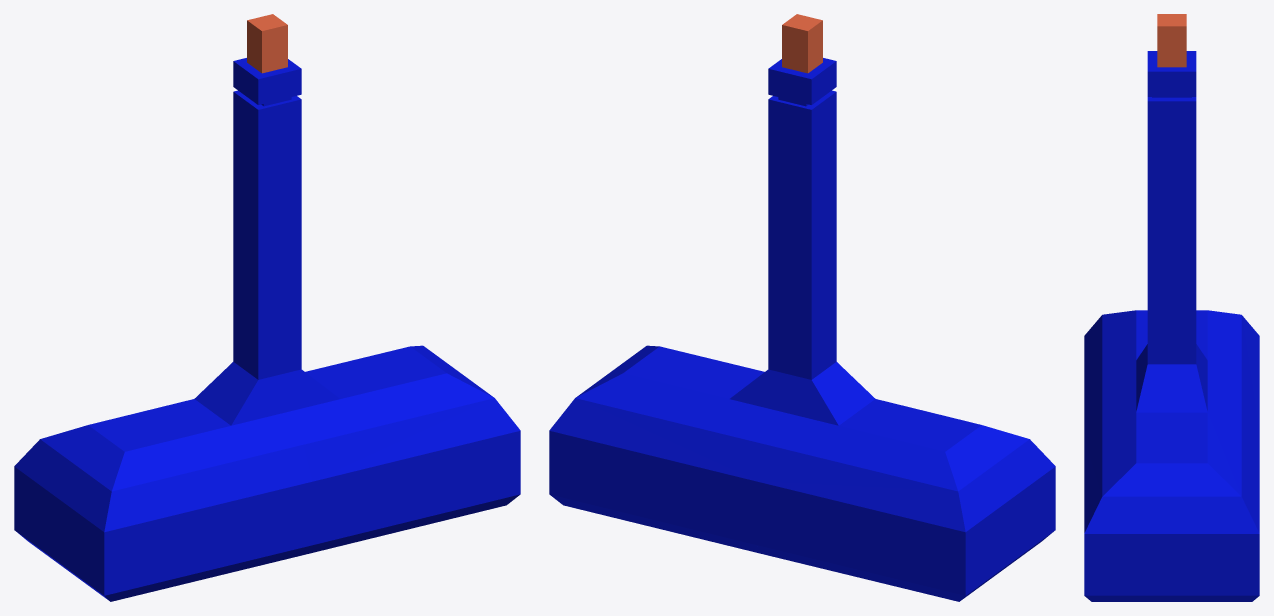
File: item_potion_4.fbx
3 views of the same model, side by side, from view 1: azimuth 30°, elevation 25°; view 2: azimuth 150°, elevation 25°; view 3: azimuth 270°, elevation 25° (orthographic). The views are drawn at different scales.
Visible parts, largest first — view 1: ItemPotion4; view 2: ItemPotion4; view 3: ItemPotion4.
Part boxes in pixels (left/top/right/bottom): ItemPotion4: left=14, top=14, right=520, bottom=601; ItemPotion4: left=549, top=14, right=1055, bottom=601; ItemPotion4: left=1084, top=14, right=1259, bottom=601.
Size of the model in its own units: 552 by 635 by 207.
